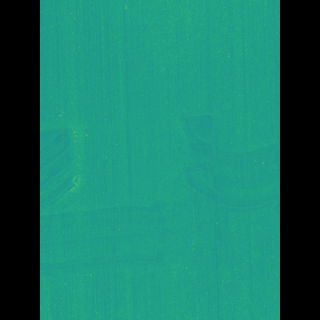Loch: (68, 111, 183, 271), (174, 111, 249, 227)
